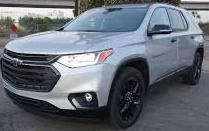SUV: (2, 5, 205, 129)
